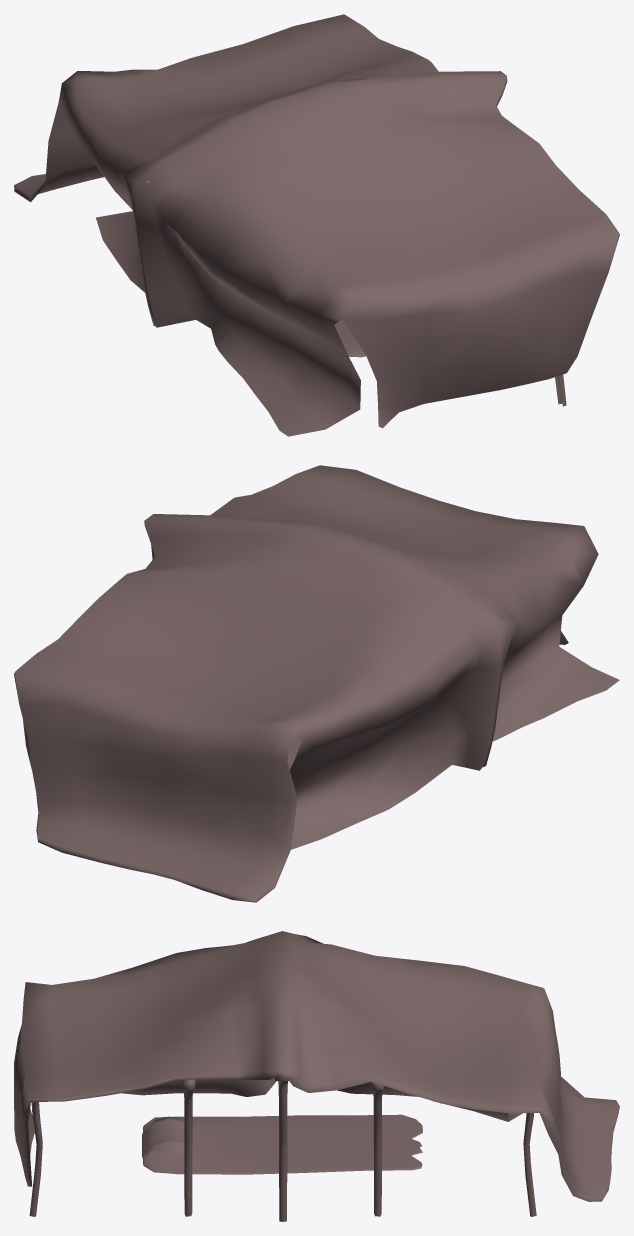
The model's file is BigTält_Model.fbx.
3 views of the same model, one above another, from view 1: azimuth 30°, elevation 25°; view 2: azimuth 150°, elevation 25°; view 3: azimuth 270°, elevation 25° (orthographic). The views are drawn at different scales.
Visible parts, largest first — view 1: Cloth_LP; view 2: Cloth_LP; view 3: Cloth_LP, Filt_LP, Poles_LP.
Boxes of the visible parts, bbox=[...] form: Cloth_LP: bbox=[14, 14, 619, 436]; Cloth_LP: bbox=[14, 465, 619, 902]; Cloth_LP: bbox=[14, 931, 619, 1201]; Filt_LP: bbox=[142, 1114, 422, 1174]; Poles_LP: bbox=[29, 1076, 536, 1221].
Bounding box in the file's own units: 10.5 × 6.39 × 17.08.
